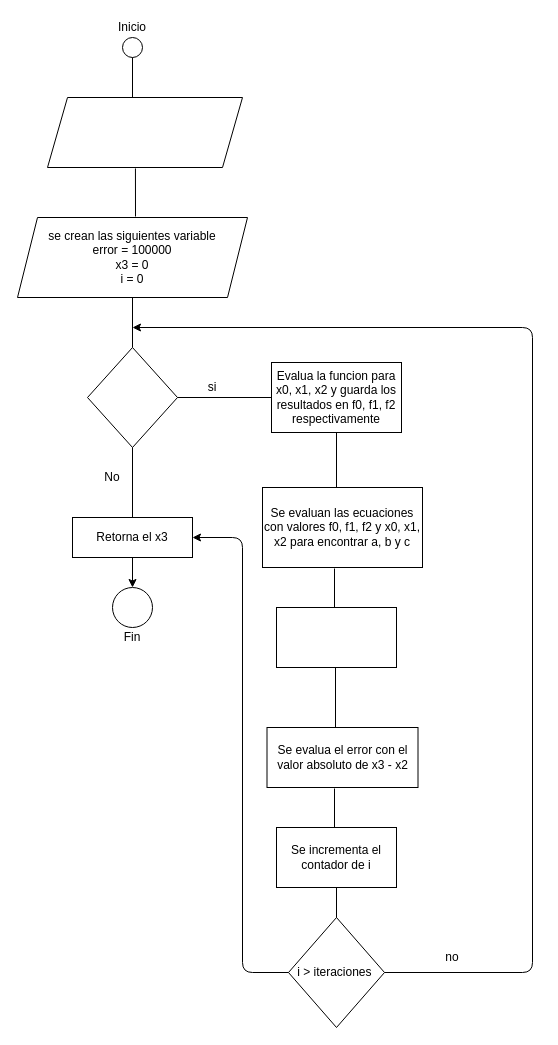
Image size: 558x1045. Some labels were removed from this diagram. Each missing label, with the centre of its shape:
error > tolerancia: (132,397)
Evalua x3 con la funcion cuadratica usando a, b y c: (336,637)
Parametros de entrada x0, x1, x2, f(x), tolerancia, N° iteraciones: (144,132)
